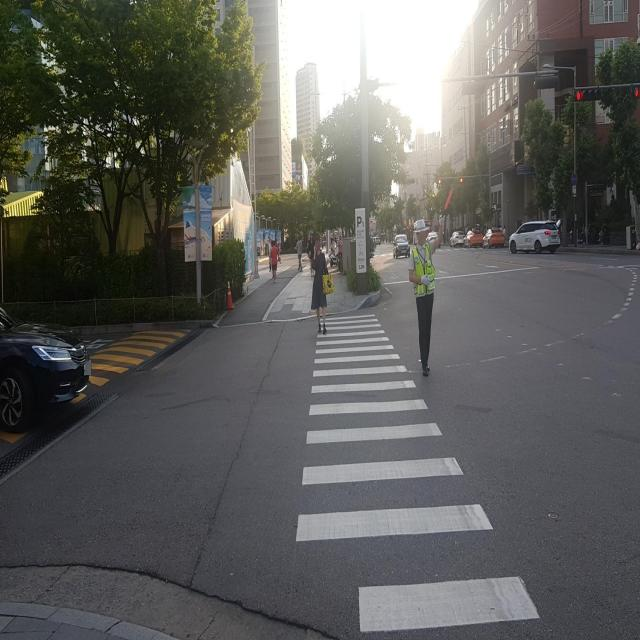횡단보도: (294, 309, 542, 636)
